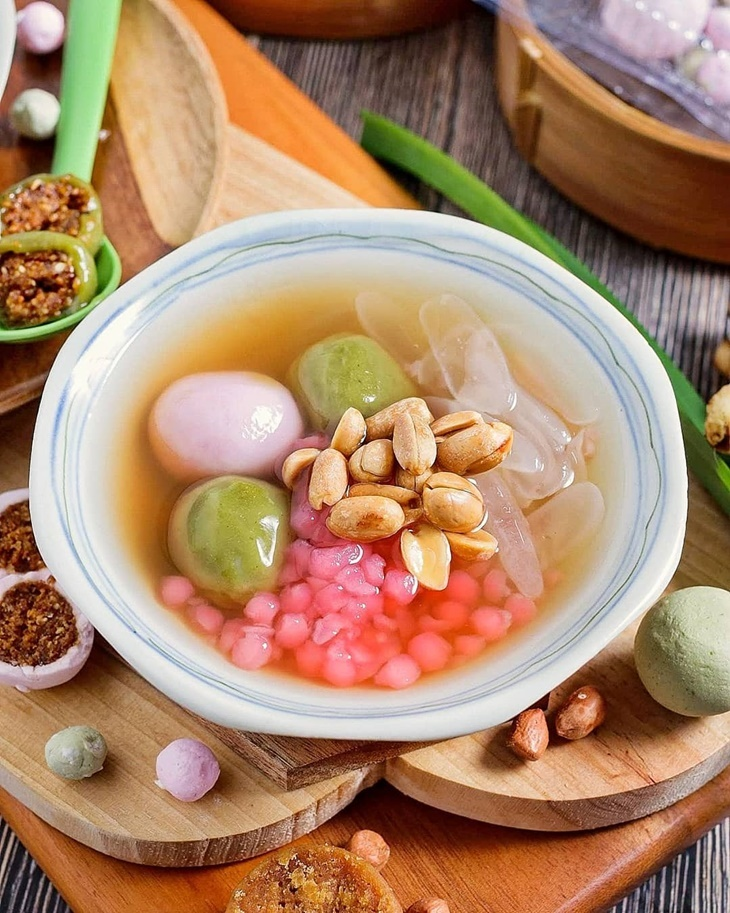ronde: (110, 284, 617, 692)
